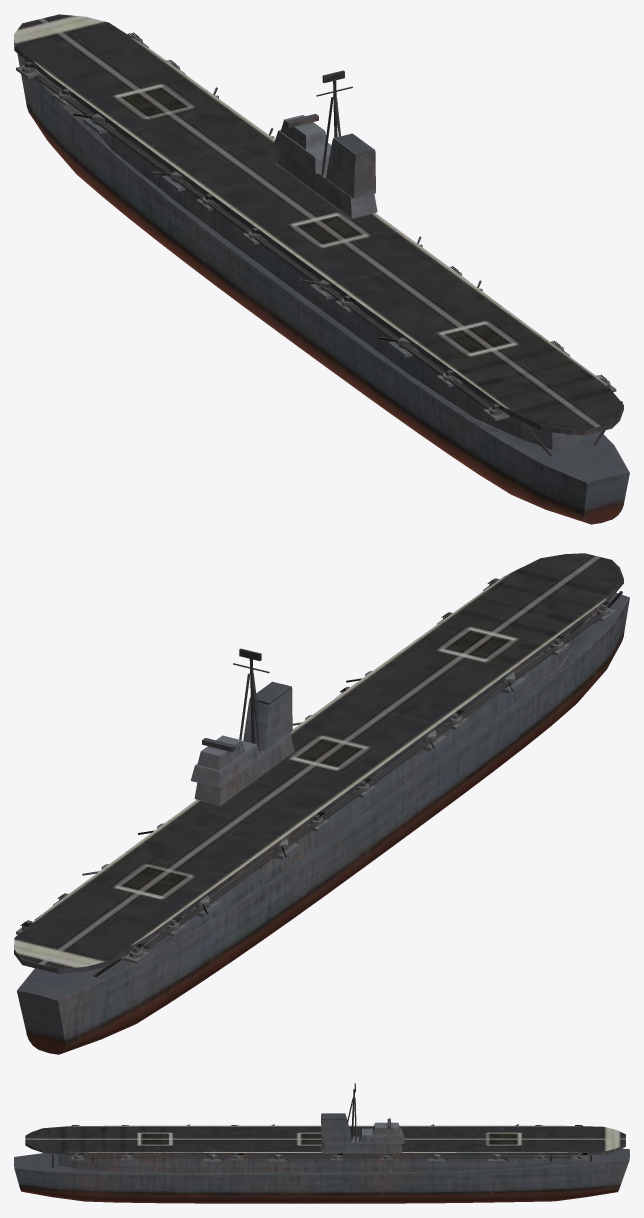
File: carrier_usn_baked.glb
The picture shows the model from 3 angles, top to bottom: view 1: azimuth 30°, elevation 25°; view 2: azimuth 150°, elevation 25°; view 3: azimuth 270°, elevation 25°; orthographic projection. The views are drawn at different scales.
Visible parts, largest first — view 1: carrier_usn; view 2: carrier_usn; view 3: carrier_usn.
Boxes of the visible parts, x1,y1,x2,y2 form: carrier_usn: [14, 14, 629, 524]; carrier_usn: [14, 553, 629, 1054]; carrier_usn: [14, 1083, 629, 1203].
Size of the model in its own units: 33.81 by 54.09 by 247.
Materials: 1 (1 with a texture image).
